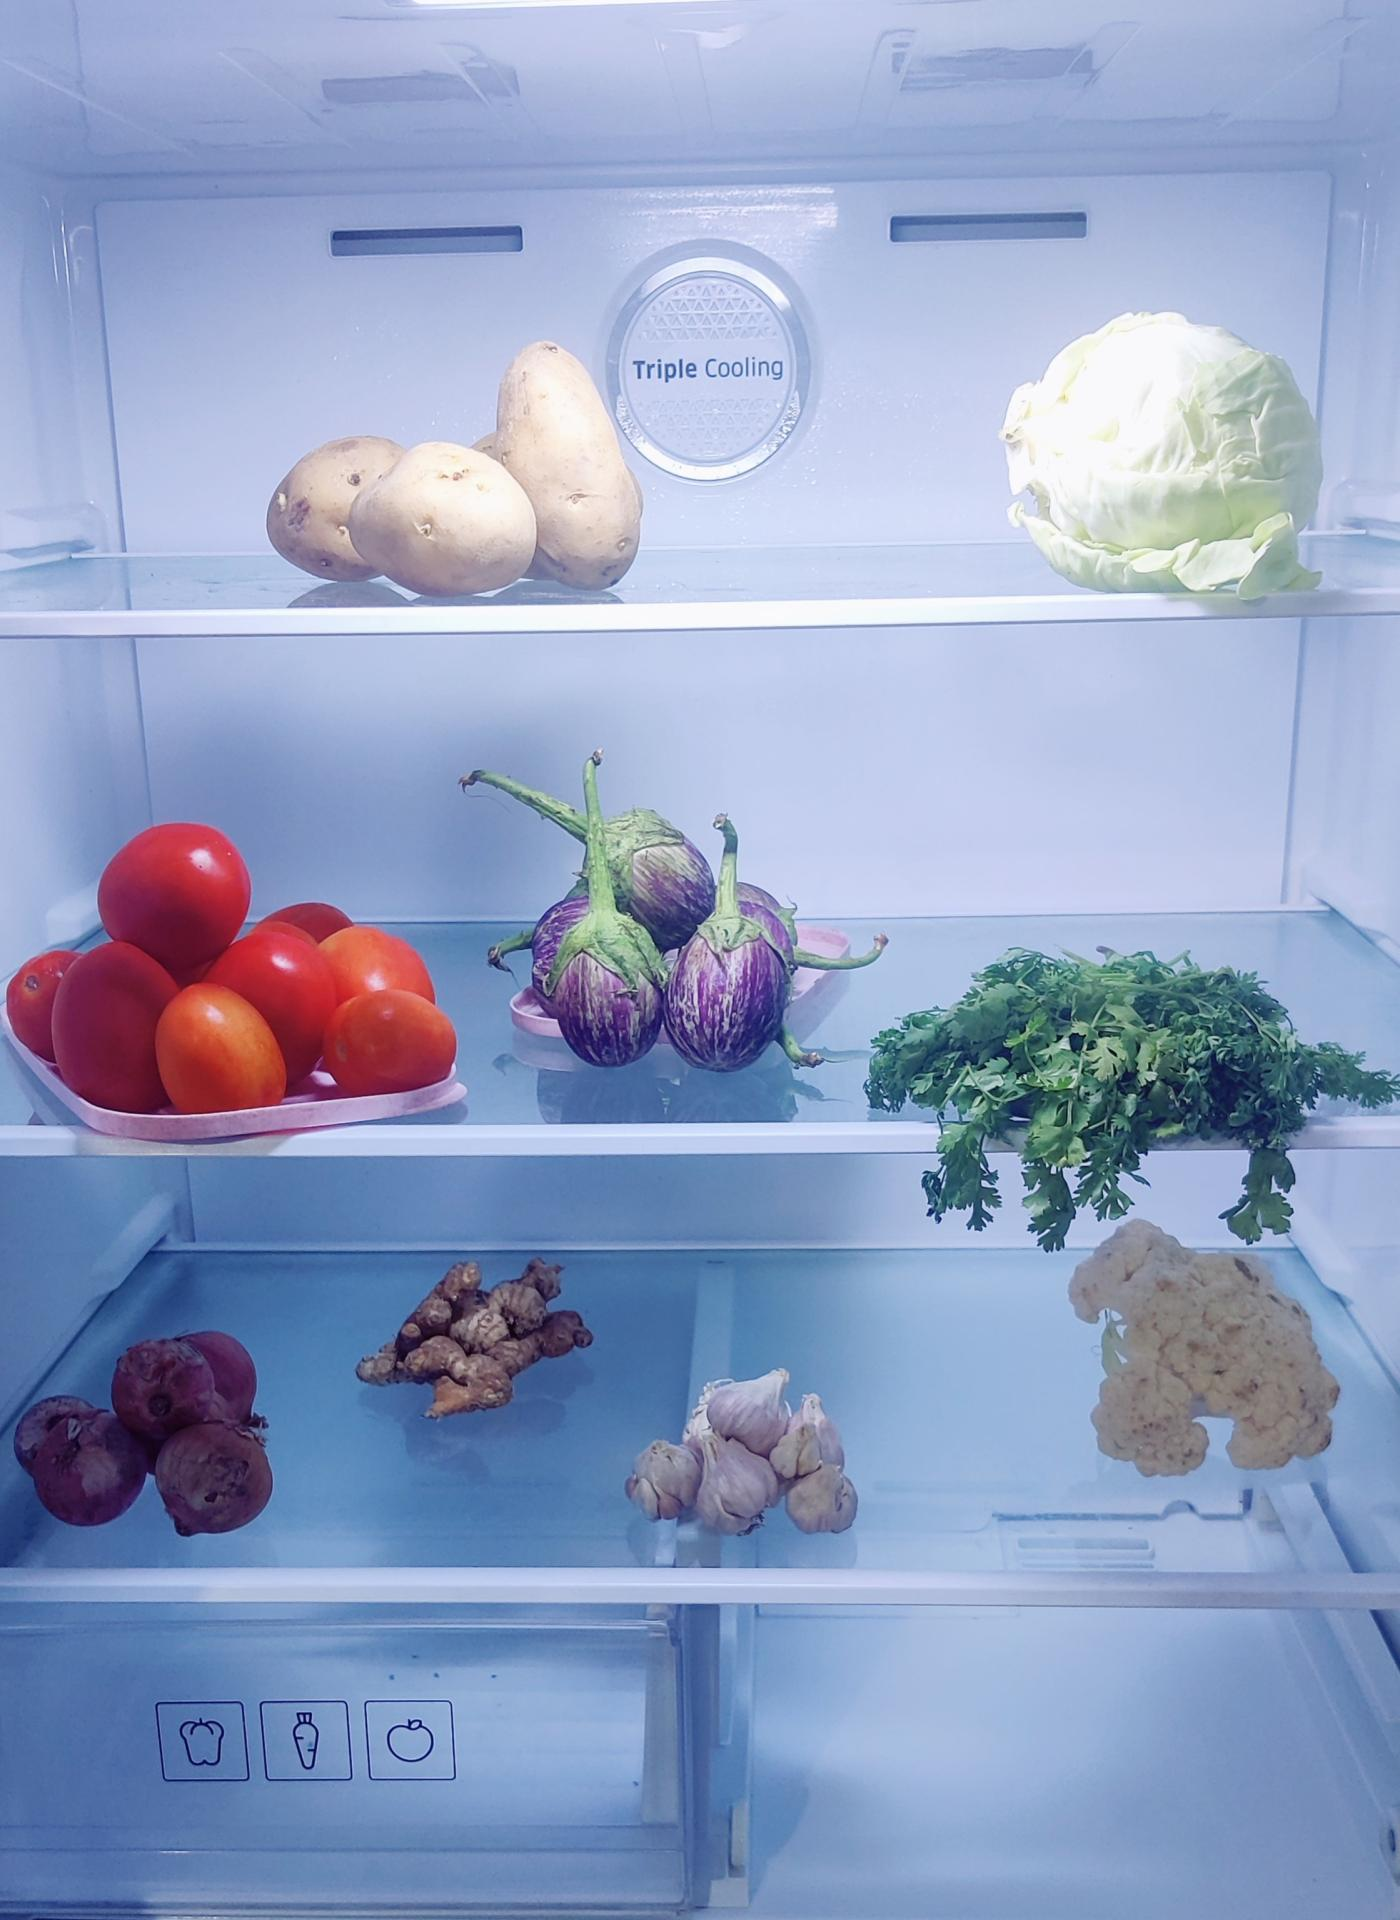brinjal: (540, 802, 801, 1070)
cabbage: (997, 307, 1322, 584)
cauliflower: (1079, 1228, 1342, 1483)
coriander: (884, 941, 1348, 1219)
garlic: (628, 1368, 863, 1537)
ginger: (365, 1254, 592, 1416)
onion: (13, 1336, 273, 1529)
potato: (273, 340, 635, 587)
tomato: (39, 821, 450, 1115)
